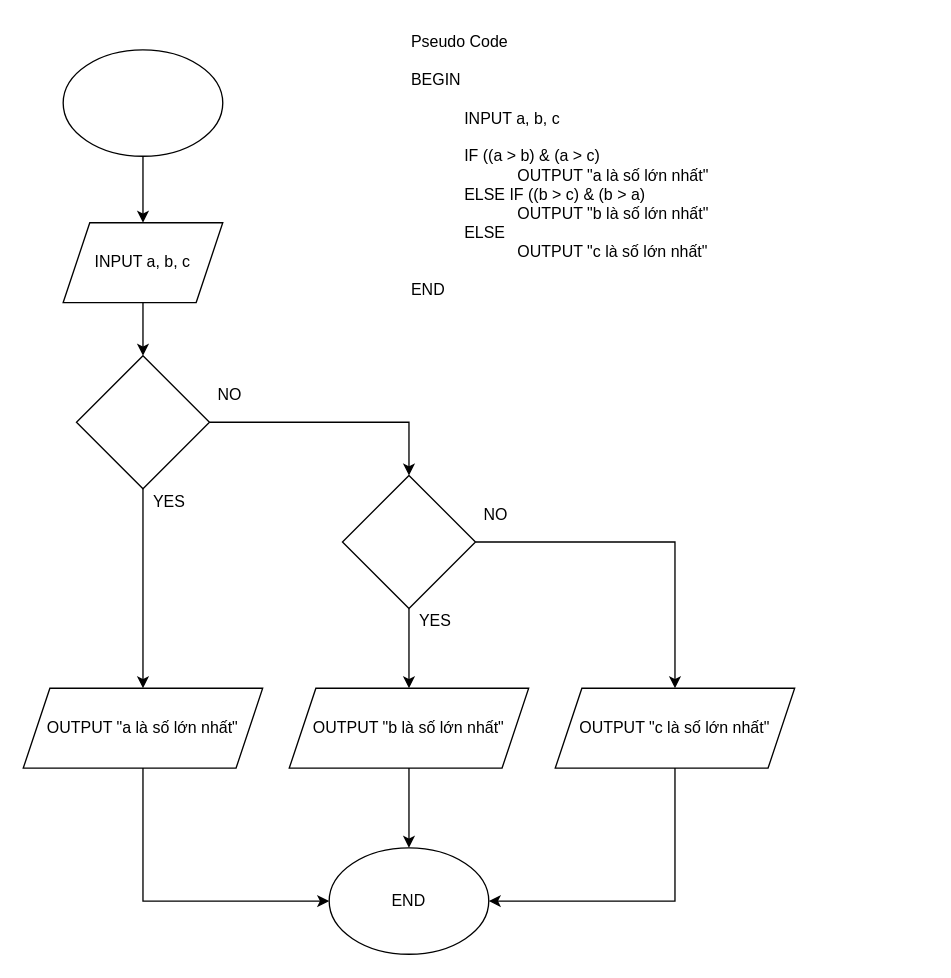
The diagram is 951 pixels wide and 978 high, and some of its shapes have lost their labels. The box of each missing label's shape, as (x1, y1, x2, y2) in pixels:
IF a > b & a > c: (75, 354, 209, 489)
IF b > c & b > a: (341, 474, 475, 608)
START: (62, 49, 223, 156)
